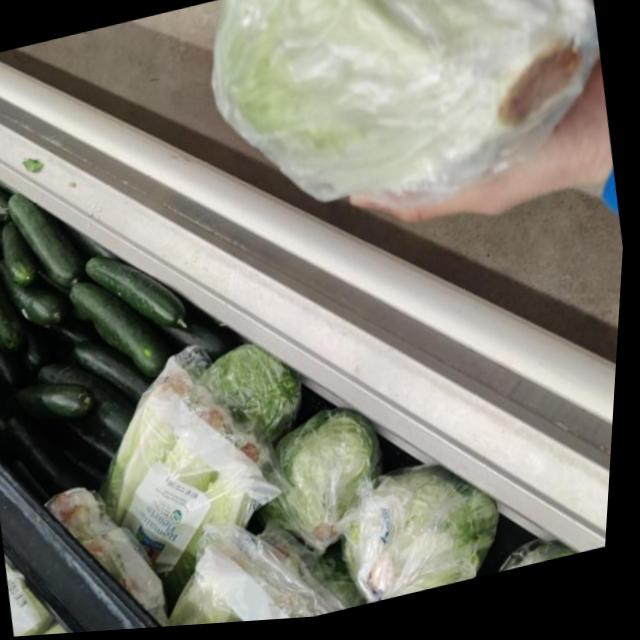Cucumber: (84, 237, 203, 349), (2, 177, 90, 298), (70, 318, 165, 421), (0, 222, 38, 368)
Lettuce: (188, 0, 620, 238), (72, 331, 304, 619), (338, 453, 517, 613), (251, 400, 404, 565)
